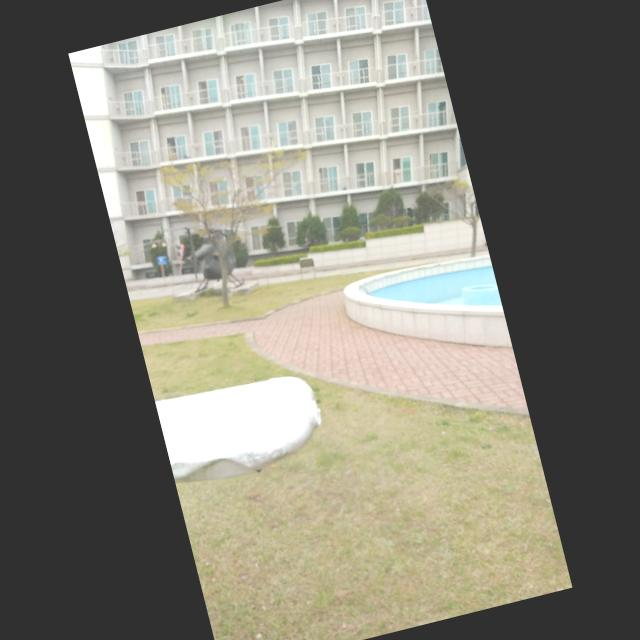dent: (172, 445, 260, 492), (170, 453, 200, 479)
